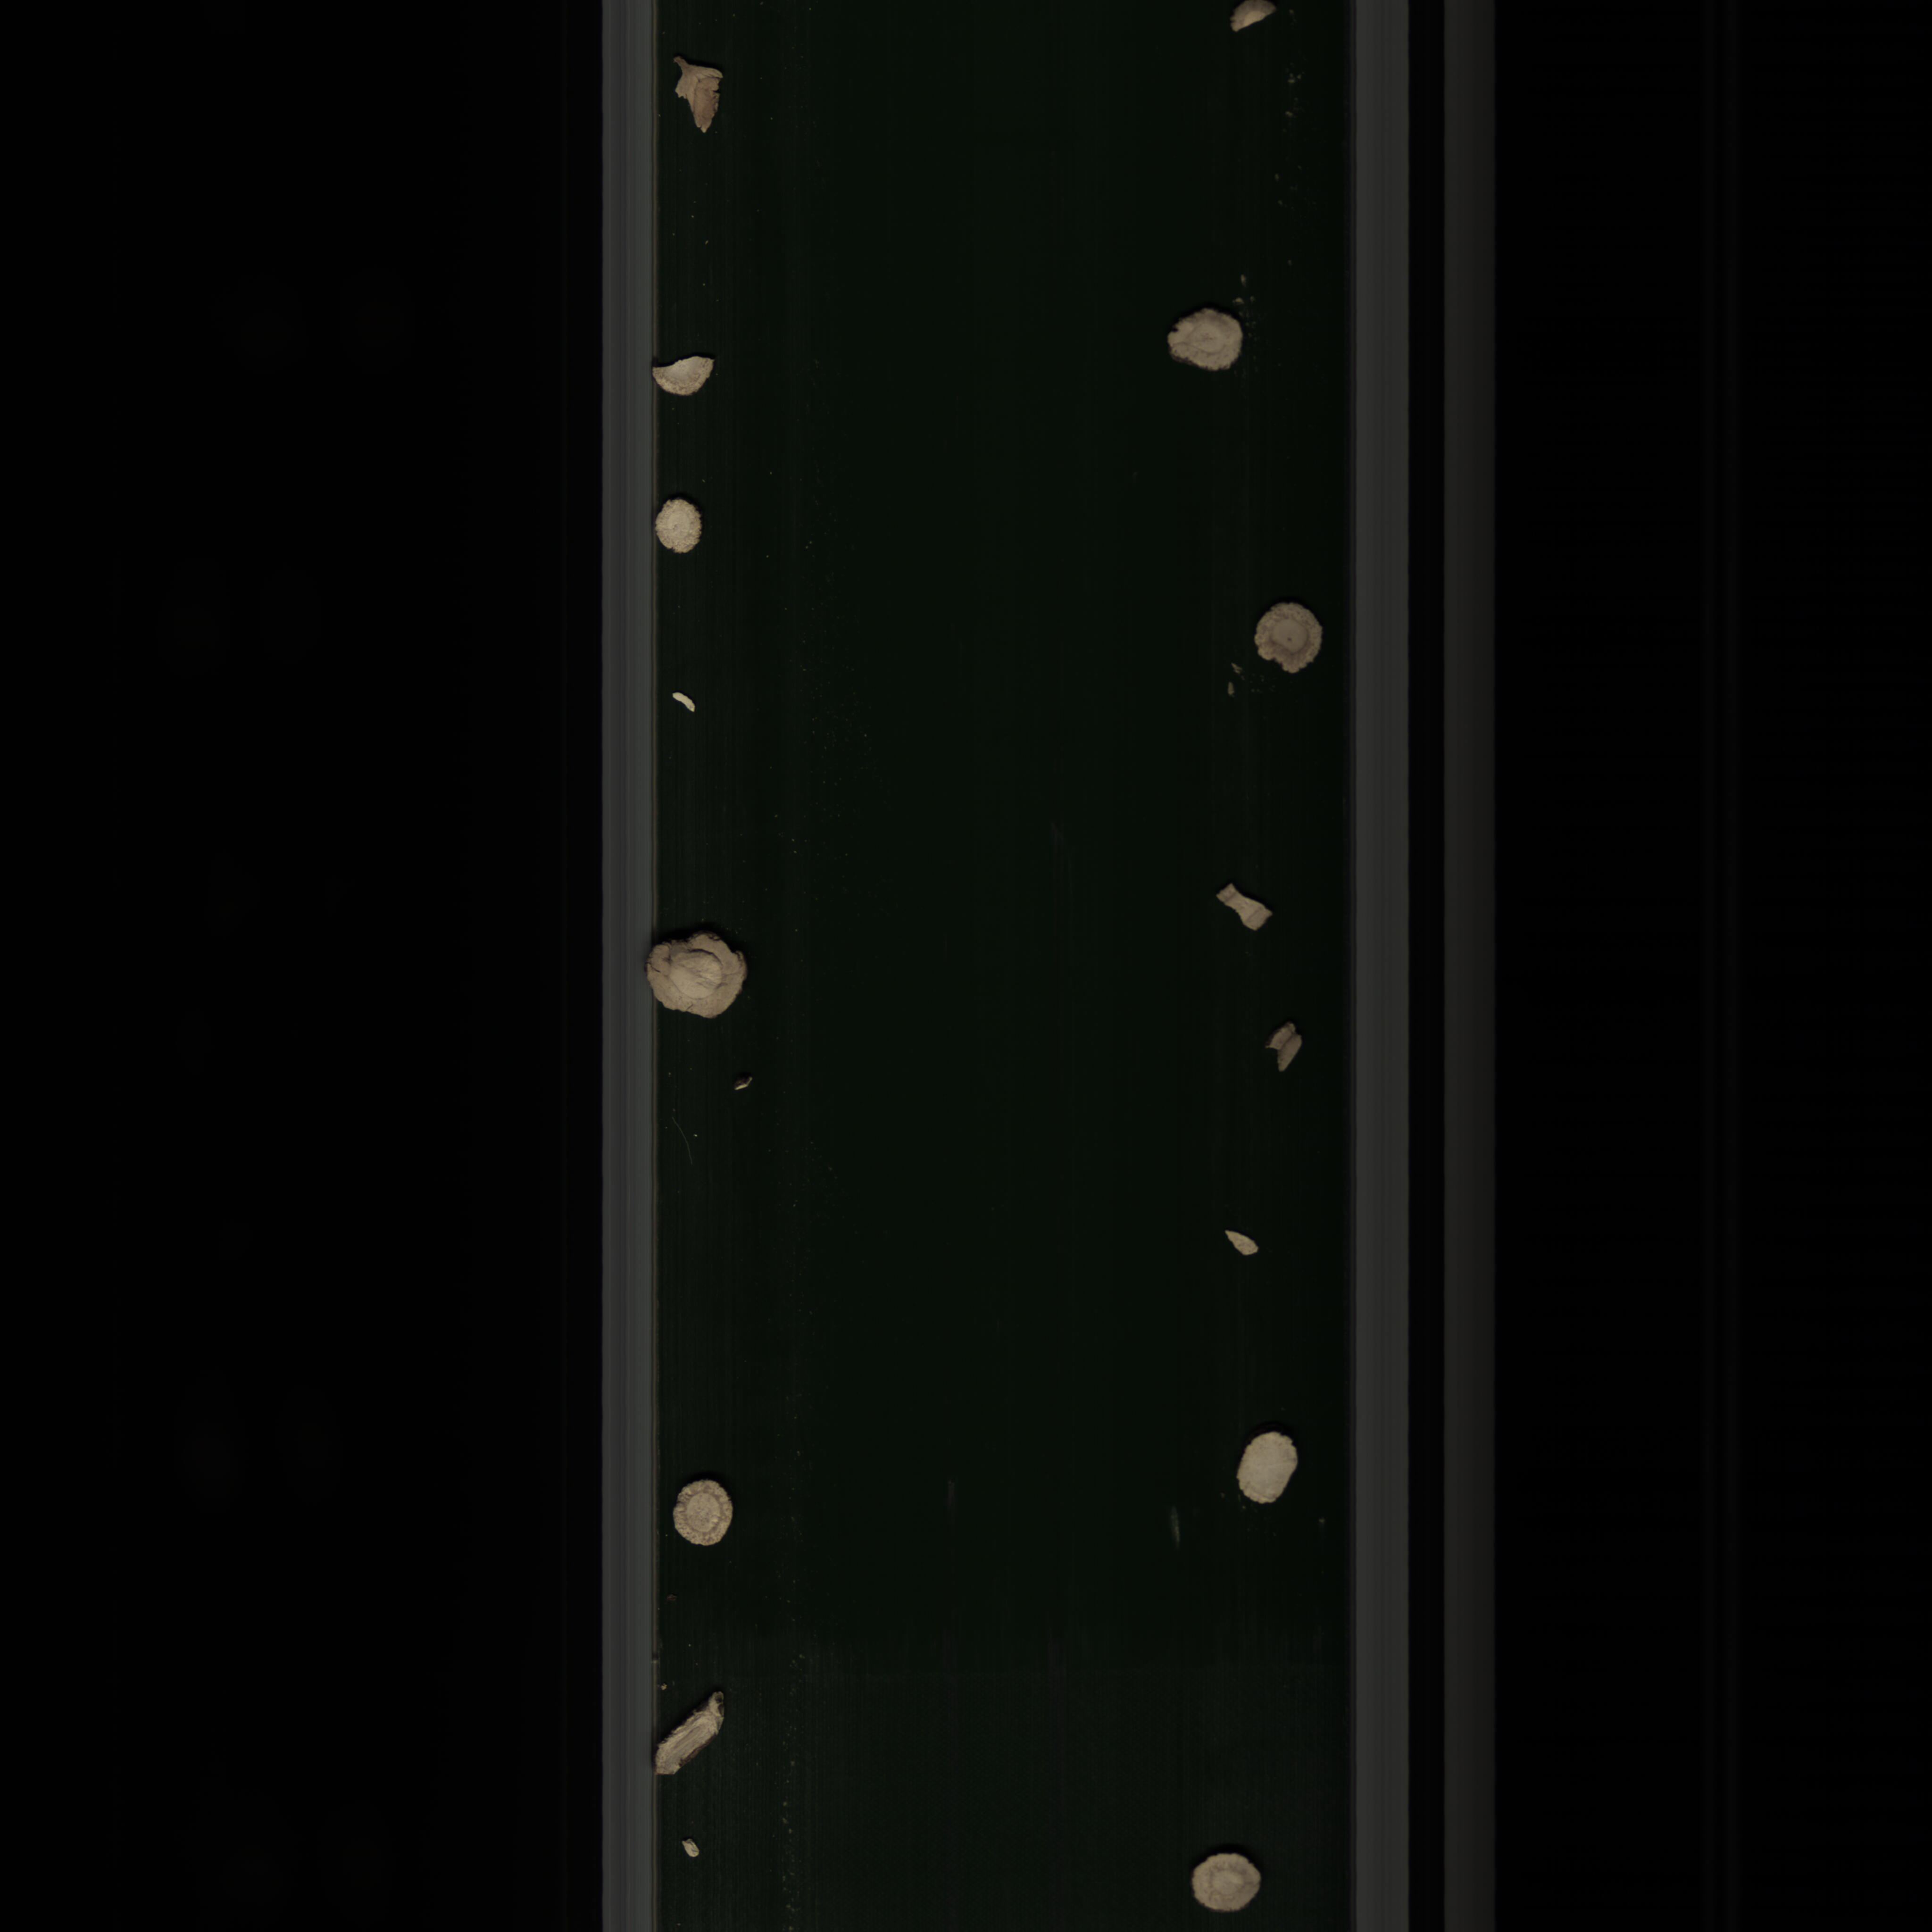bark: (669, 50, 738, 140), (1263, 1017, 1311, 1077)
debris: (1205, 879, 1283, 936), (640, 359, 729, 398), (1219, 1226, 1269, 1265)
distortion: (648, 932, 755, 1023), (653, 1683, 747, 1783), (1166, 301, 1254, 382)
moldy: (1244, 598, 1325, 678)
